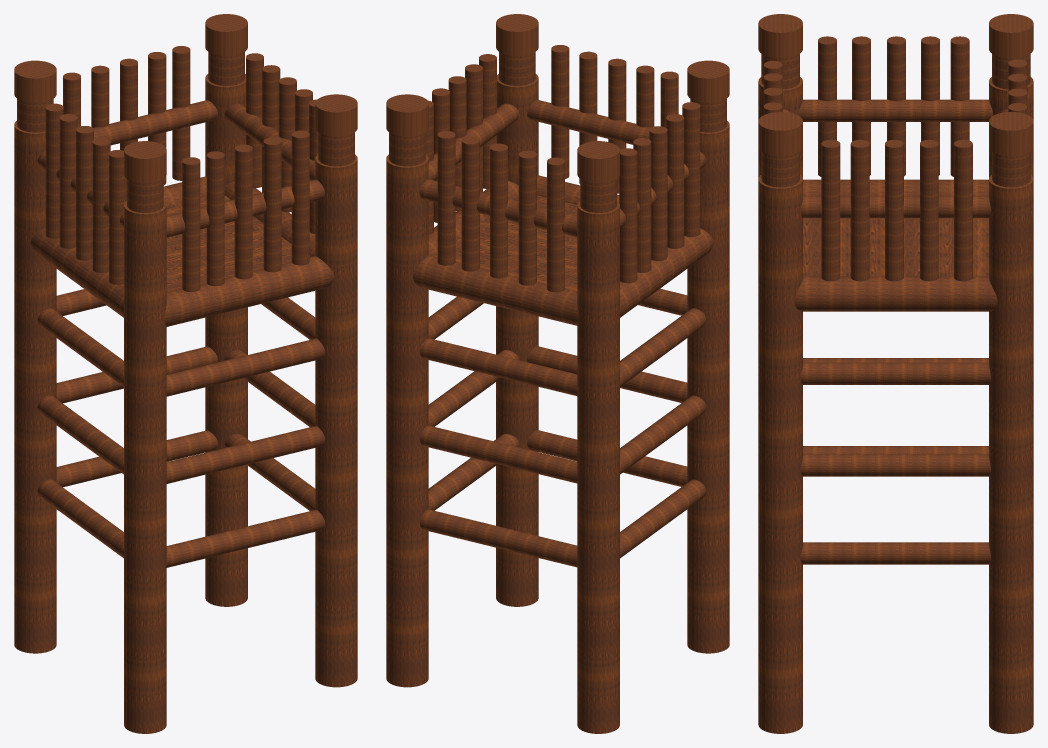
File: Maori_Outpost.dae
The picture shows the model from 3 angles, left to right: view 1: azimuth 30°, elevation 25°; view 2: azimuth 150°, elevation 25°; view 3: azimuth 270°, elevation 25°; orthographic projection. The views are drawn at different scales.
Parts seen in each view (by area): view 1: Cylinder.001; view 2: Cylinder.001; view 3: Cylinder.001.
Part boxes in pixels (left/top/right/bottom): Cylinder.001: left=14, top=14, right=357, bottom=733; Cylinder.001: left=386, top=14, right=729, bottom=733; Cylinder.001: left=758, top=14, right=1033, bottom=733.
Size of the model in its own units: 6.17 by 6.15 by 14.86.
Materials: 1 (1 with a texture image).
